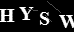H: (1, 8, 15, 23)
S: (39, 11, 50, 26)
W: (58, 14, 74, 29)
Y: (18, 6, 35, 21)
